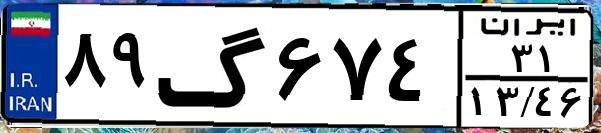1: (537, 27, 568, 80), (470, 70, 495, 125)
3: (508, 27, 537, 80), (495, 70, 520, 125)
4: (385, 28, 445, 110), (535, 70, 560, 125)
6: (270, 28, 330, 110), (560, 70, 590, 125)
7: (330, 28, 385, 110)
8: (57, 26, 110, 100)
9: (110, 28, 156, 98)
گ: (156, 12, 270, 120)
